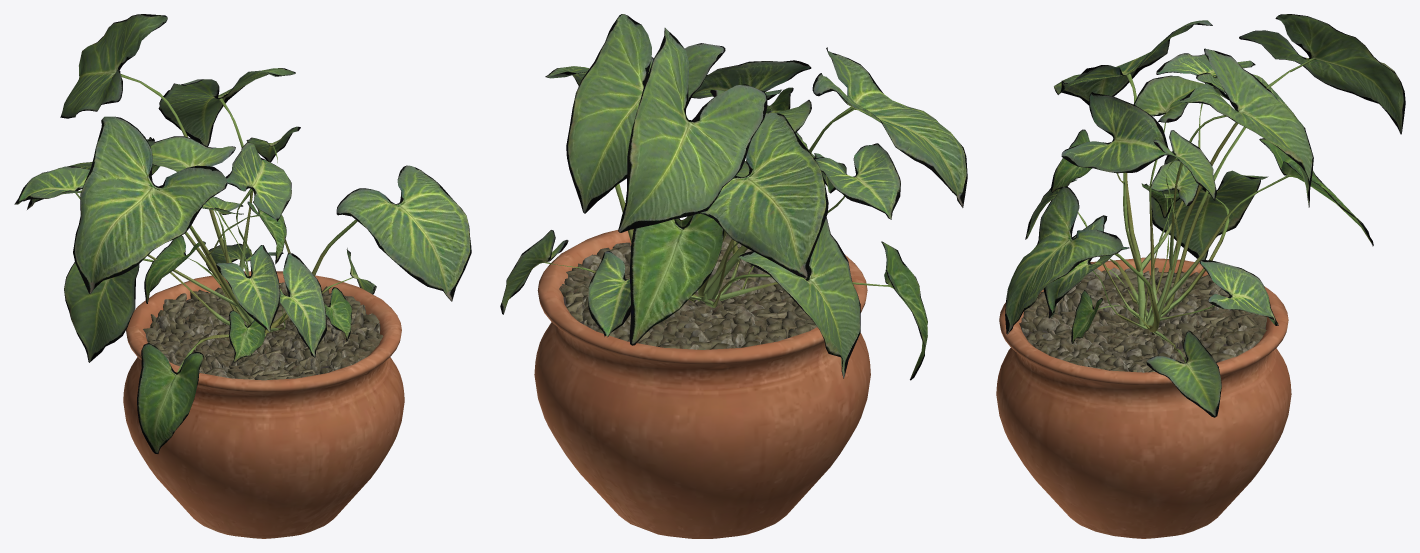
The model's file is potted_plant_02.glb.
3 views of the same model, side by side, from view 1: azimuth 30°, elevation 25°; view 2: azimuth 150°, elevation 25°; view 3: azimuth 270°, elevation 25° (orthographic). The views are drawn at different scales.
Parts seen in each view (by area): view 1: potted_plant_02_leaves, potted_plant_02_pot; view 2: potted_plant_02_leaves, potted_plant_02_pot; view 3: potted_plant_02_pot, potted_plant_02_leaves.
Part boxes in pixels (x1,y1,x2,y2): potted_plant_02_leaves: (14, 14, 471, 453); potted_plant_02_pot: (123, 271, 404, 538); potted_plant_02_leaves: (500, 14, 967, 380); potted_plant_02_pot: (534, 220, 870, 538); potted_plant_02_pot: (996, 257, 1291, 538); potted_plant_02_leaves: (1005, 14, 1405, 417).
Bounding box in the file's own units: 0.7009 × 0.8412 × 0.6574.
Materials: 2 (2 with a texture image).
